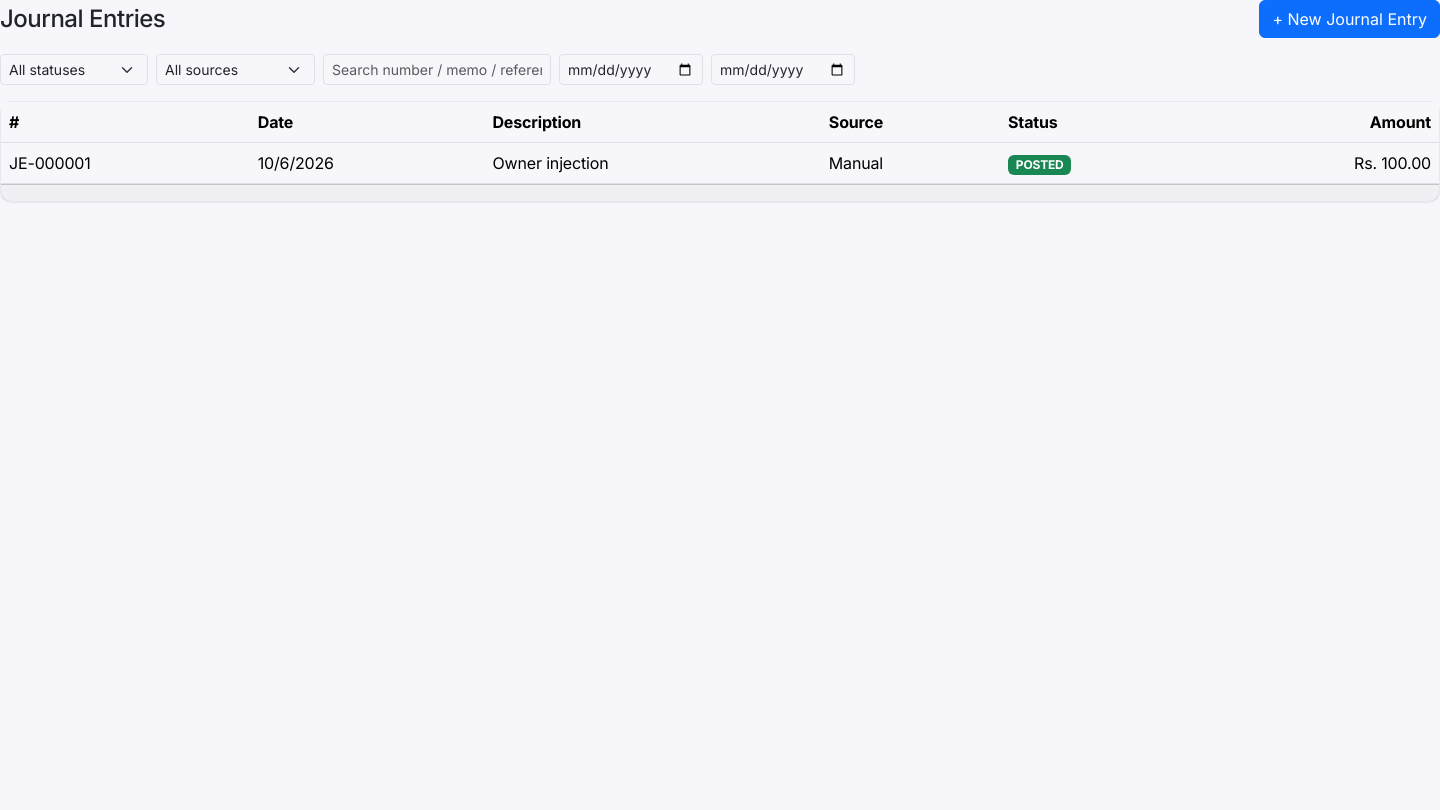
it: JournalEntries › lists entries with status and offers Reverse only for a posted manual entry (with permission)
Click the text "JE-000001".
click(125, 163)  # box [1,142,250,184]
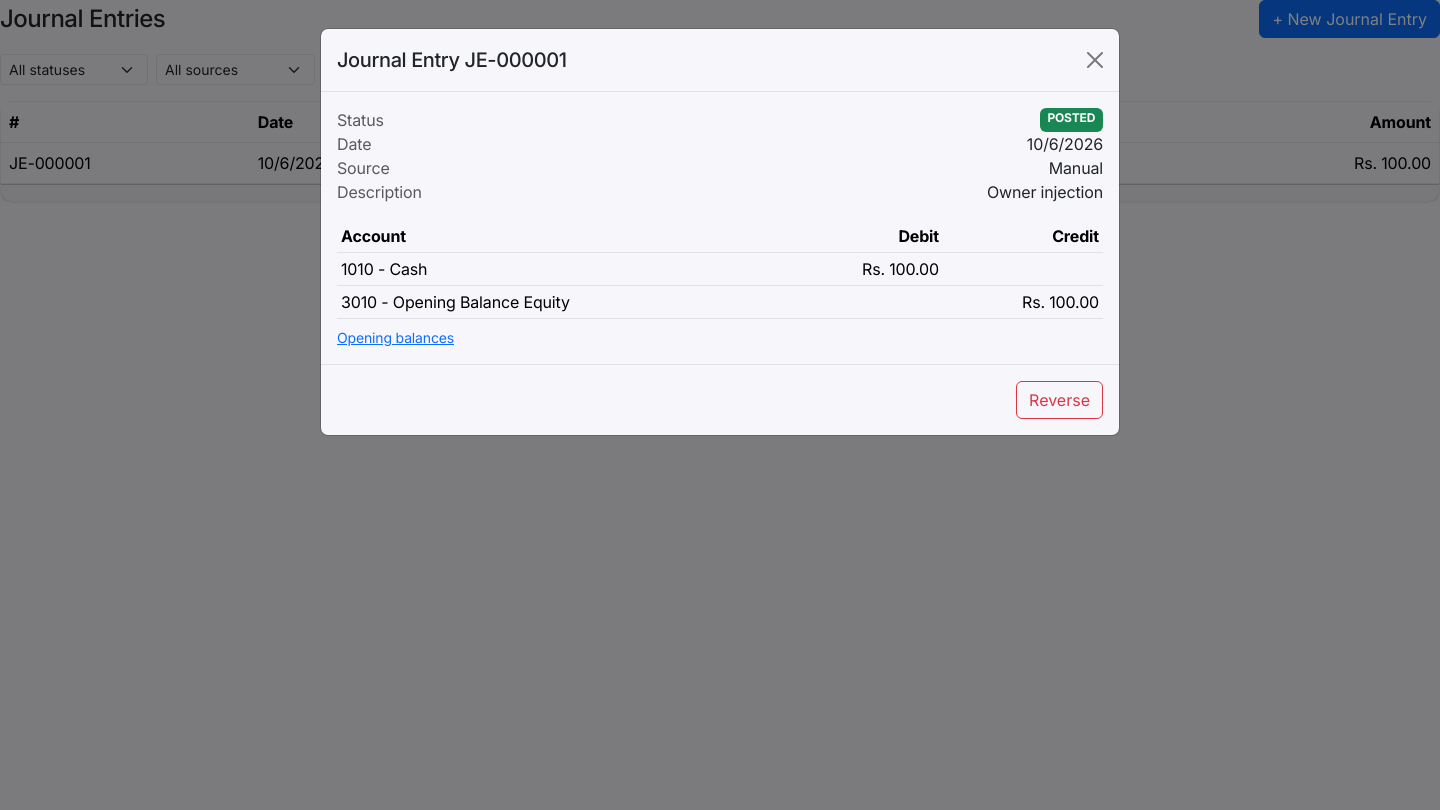
Result: the button "Reverse" is shown at [1016,381,1103,419]
